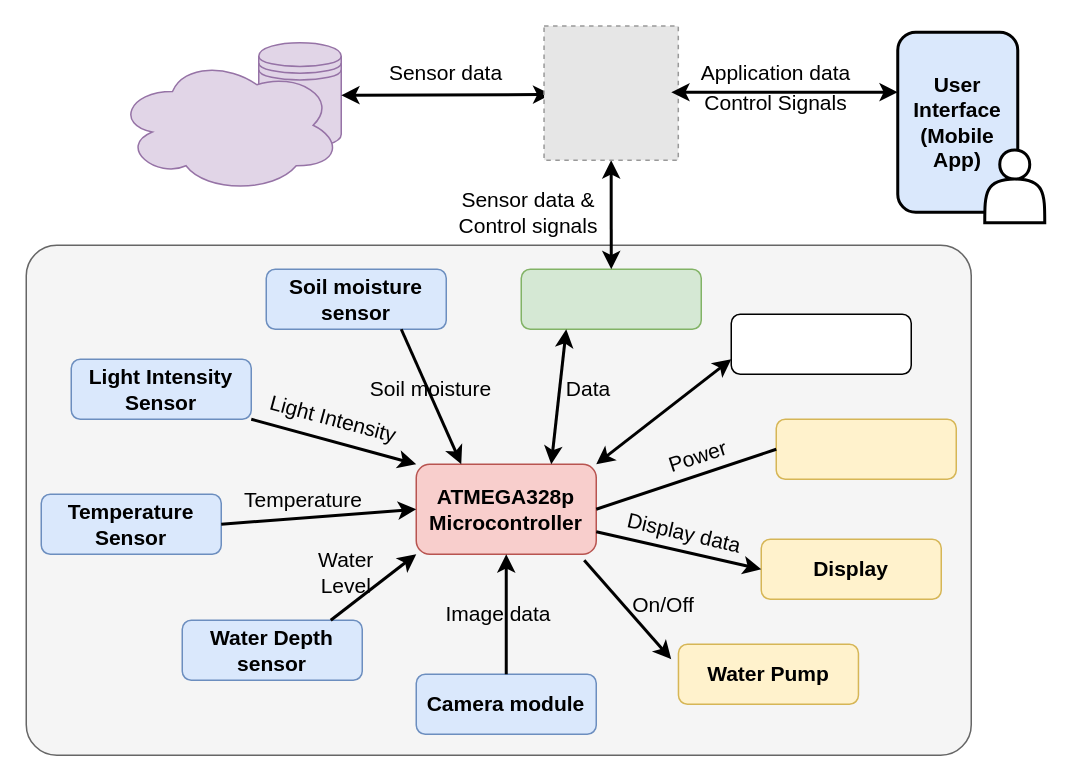
This 1073x783 diagram has some shape labels left out. Grey dashed boxes stand in for pictures. Here are the shapes that lost their labels. From the top down, the centre of each, then its label:
At (228,124): "Cloud server (Backend)".
At (610,298): "Wi-fi module".
At (820,343): "Temporary data Storage".
At (865,448): "Battery".
